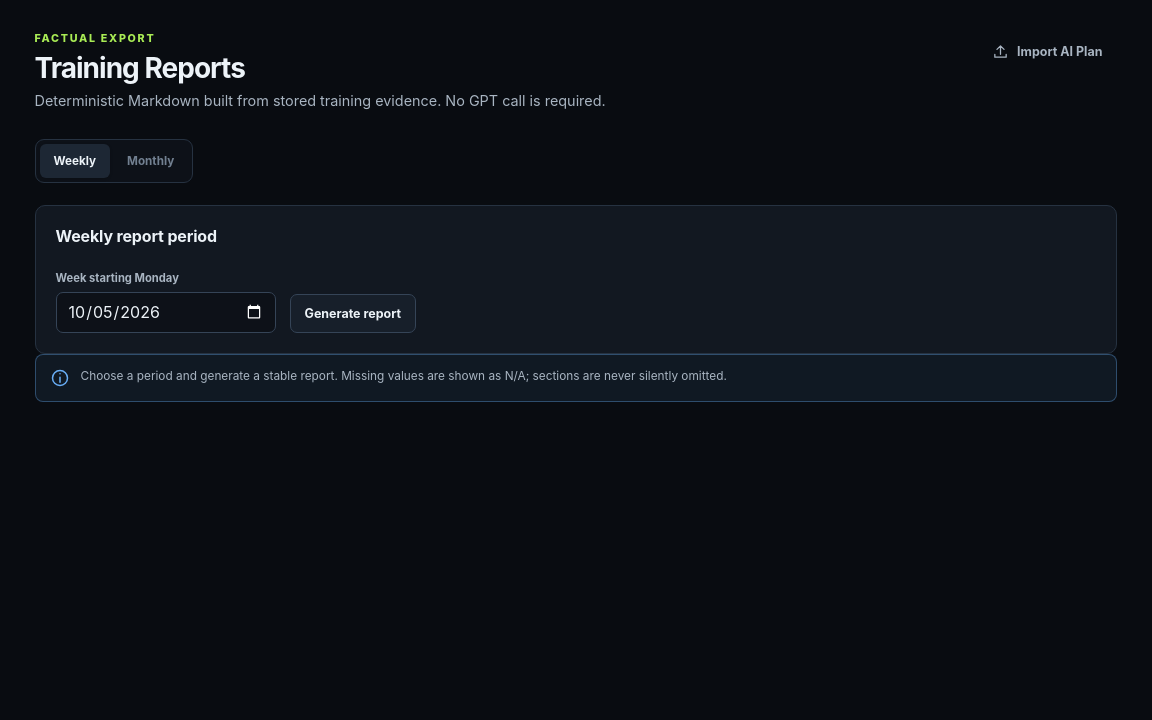
Scenario: fixed training reports › generates deterministic weekly Markdown without an AI planning action
Click the button "Generate report" at (353, 313), box [290,294,416,332]
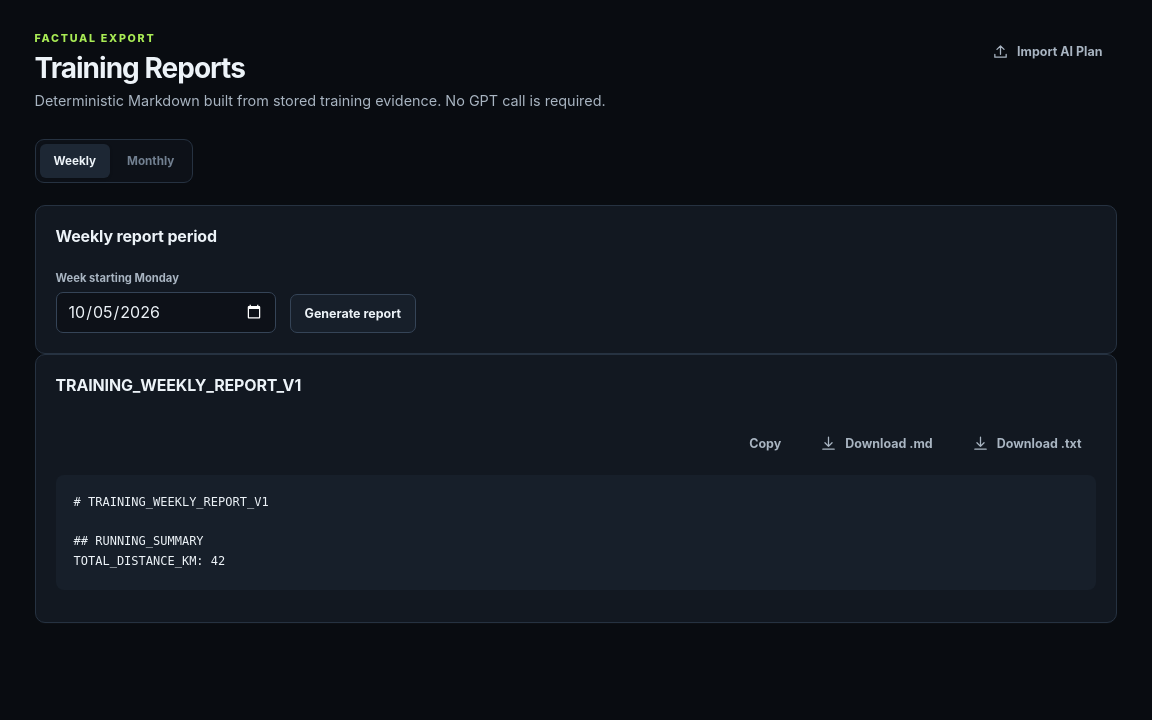
Expected: the text "TOTAL_DISTANCE_KM: 42" is shown, [74,494,269,568]
